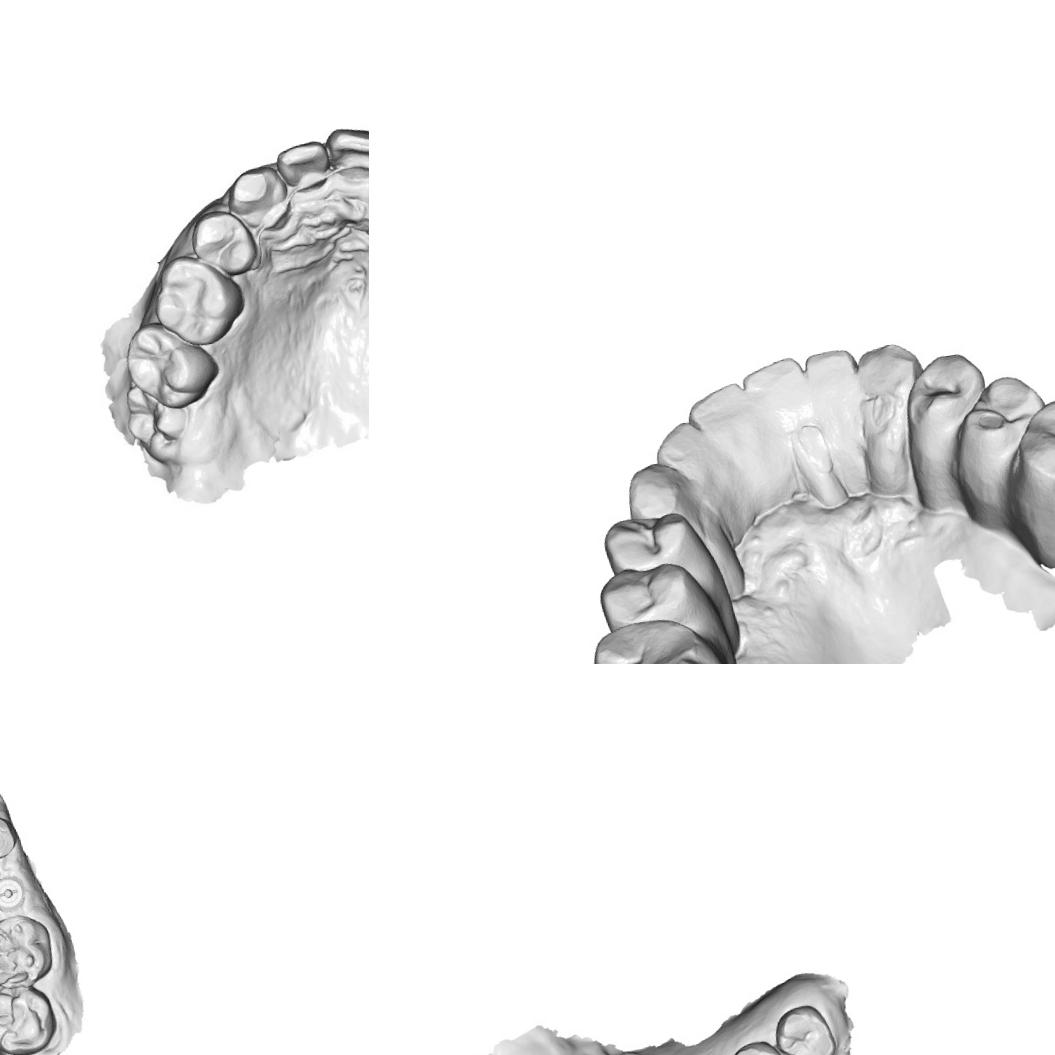canine: (850, 339, 931, 424), (618, 450, 703, 530), (229, 162, 303, 242)
implant: (0, 871, 28, 915)
incisor: (735, 353, 816, 445), (683, 371, 762, 464), (648, 416, 727, 497), (798, 342, 866, 422), (276, 137, 340, 199), (329, 120, 369, 183)
molar: (578, 605, 752, 664), (128, 316, 227, 416), (154, 254, 237, 343), (1009, 386, 1055, 510), (0, 909, 57, 994), (0, 980, 62, 1055), (769, 998, 841, 1055), (722, 1035, 798, 1055)
premolar: (938, 366, 1054, 481), (895, 347, 996, 464), (592, 558, 707, 643), (598, 506, 699, 582), (189, 202, 255, 282), (0, 810, 20, 864)
